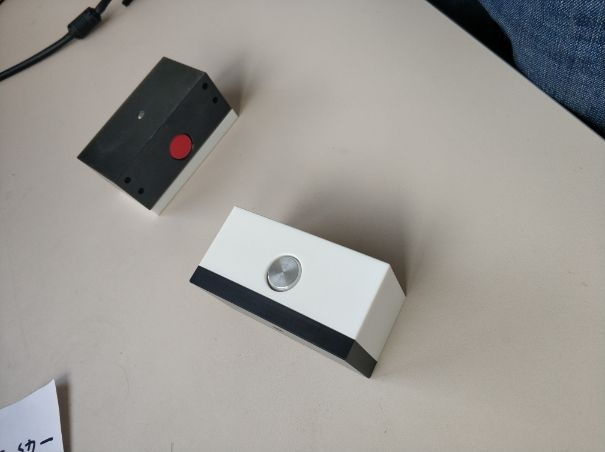black+white+silver: (185, 204, 414, 381)
white+black+red: (72, 56, 241, 218)
